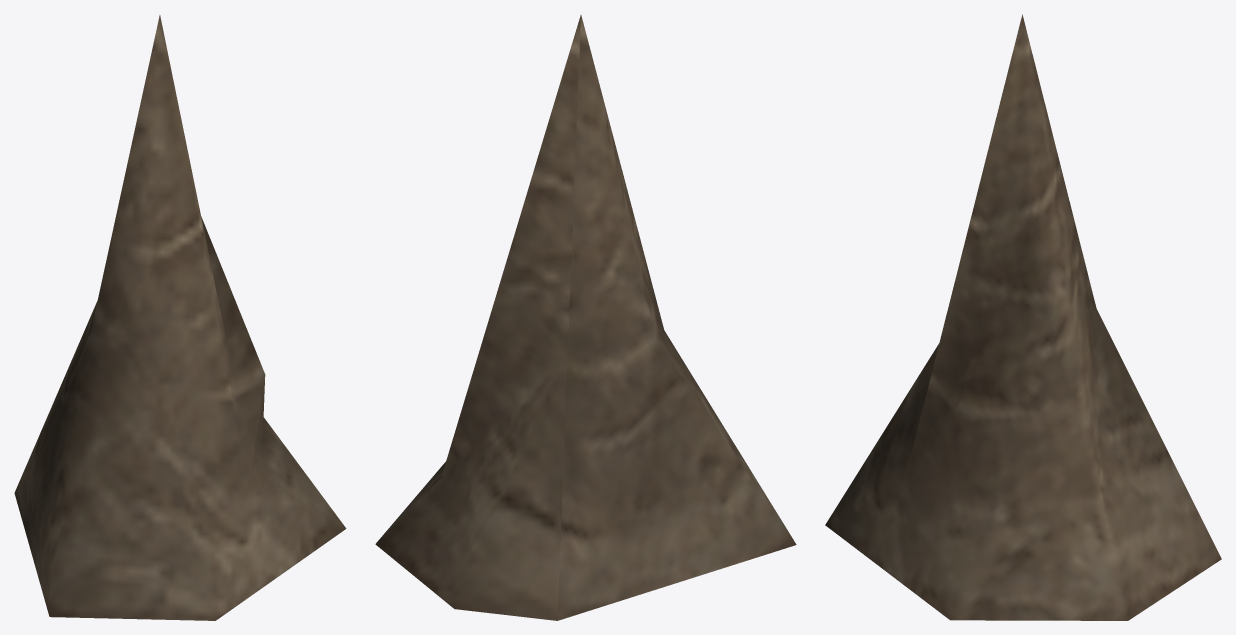
Rendered from guaishi03.FBX.
3 renders of one model, left to right at view 1: azimuth 30°, elevation 25°; view 2: azimuth 150°, elevation 25°; view 3: azimuth 270°, elevation 25°, orthographic.
Visible parts, largest first — view 1: polySurface1260; view 2: polySurface1260; view 3: polySurface1260.
Part boxes in pixels (x1,y1,x2,y2): polySurface1260: (14, 15, 346, 620); polySurface1260: (375, 15, 796, 620); polySurface1260: (825, 14, 1221, 620).
Bounding box in the file's own units: 12.89 × 20.6 × 13.91.
